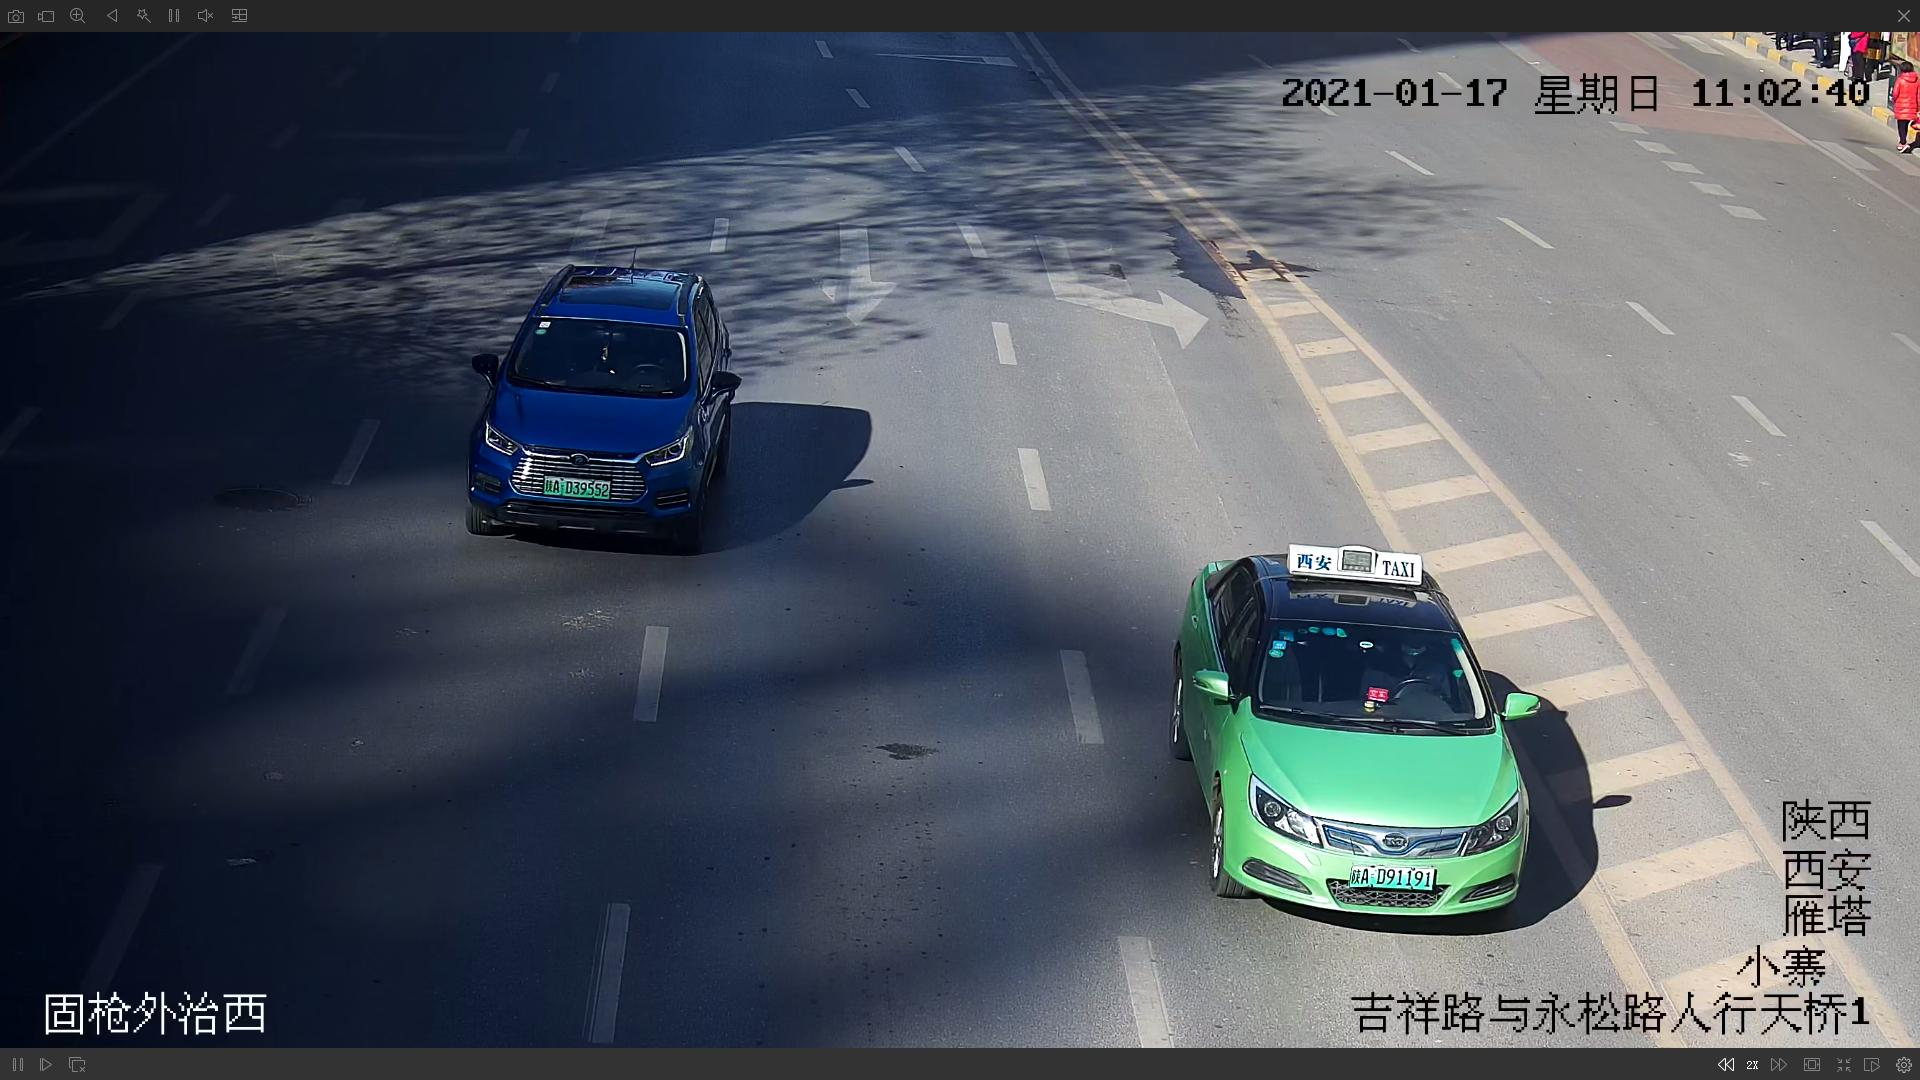dark-blue: (463, 264, 742, 545)
grass-green: (1172, 539, 1545, 922)
